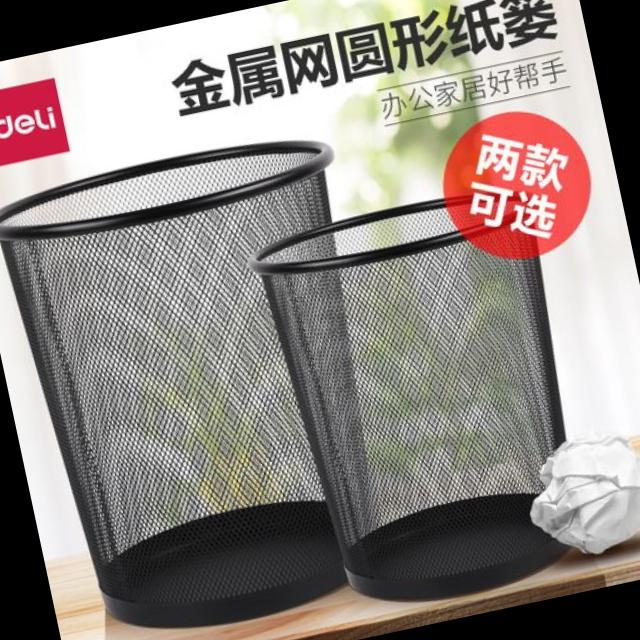dustbin: (0, 110, 433, 640), (248, 176, 612, 626)
